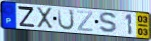1: (124, 14, 134, 36)
S: (98, 11, 119, 34)
U: (57, 8, 75, 31)
X: (35, 7, 54, 30)
Z: (17, 5, 36, 29), (76, 10, 94, 33)
